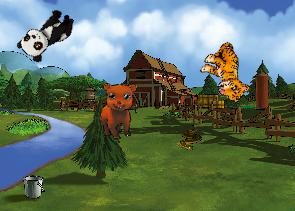bear: (95, 78, 145, 142)
panda: (14, 2, 79, 66)
tiger: (193, 37, 263, 106)
